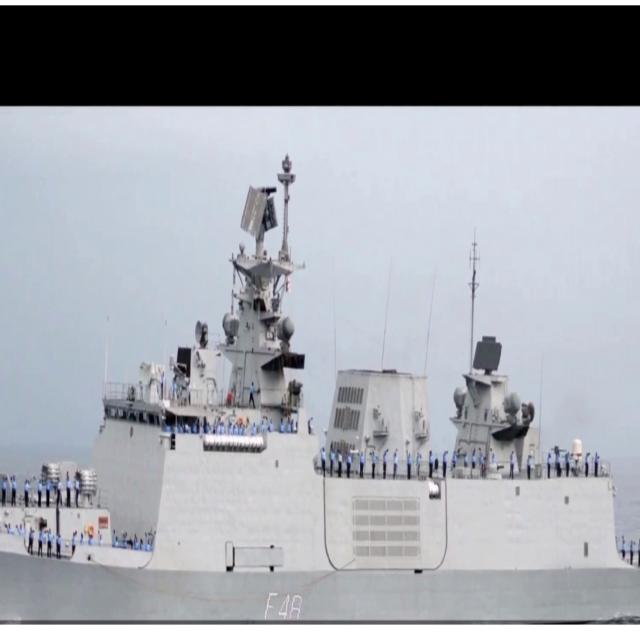OCR: (256, 582, 309, 619)
